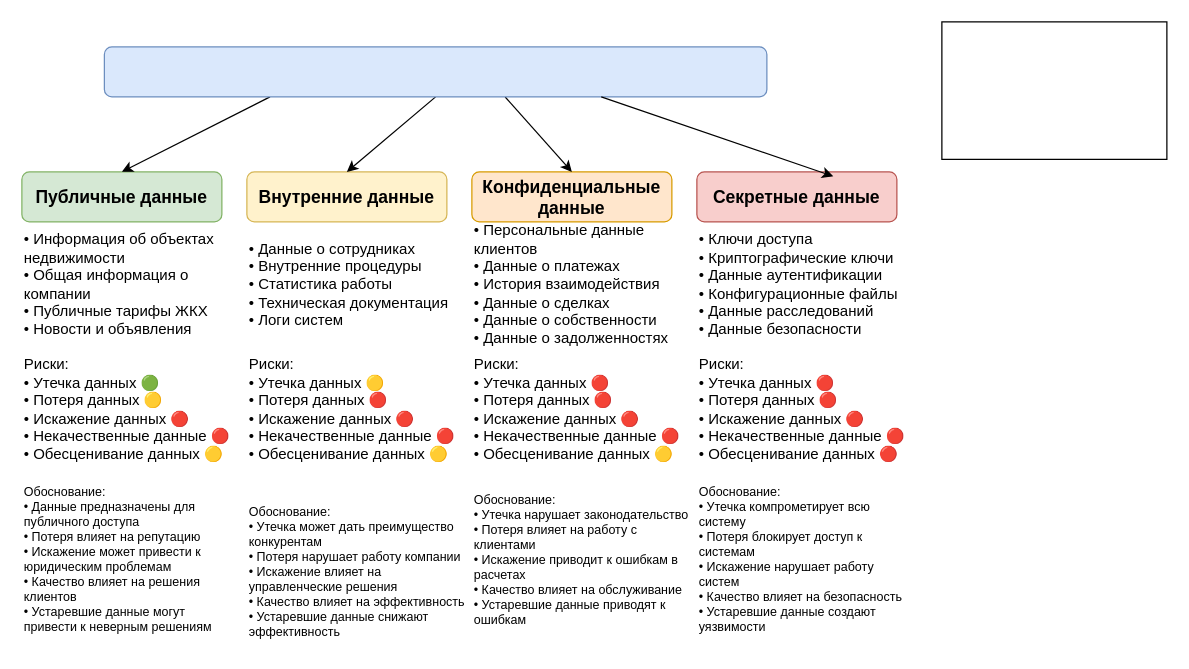
The diagram is 1189 pixels wide and 669 high, and some of its shapes have lost their labels. Here are the shapes that lost their labels. From the top down, the centre of each, then its label:
At point (435, 71): "Безопасность данных".
At point (1054, 90): "Легенда 🟢 - незначительный риск 🟡 - значительный риск 🔴 - критический риск".
